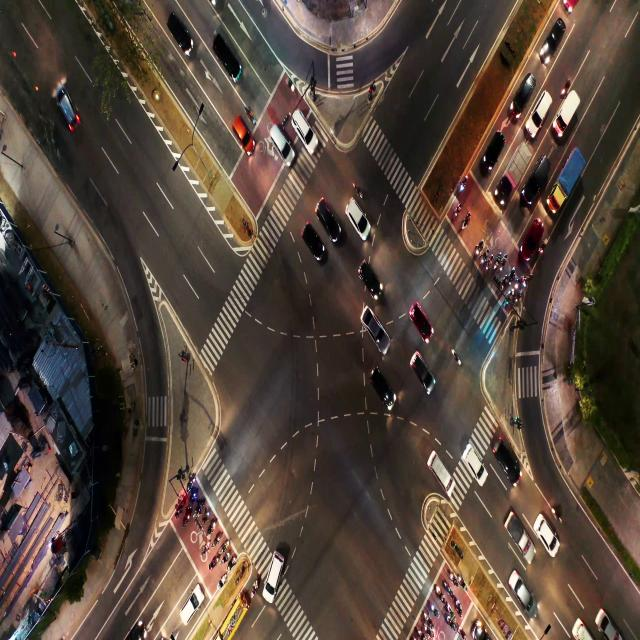bus: (228, 604, 245, 630)
car: (233, 124, 262, 164), (215, 36, 242, 78), (166, 17, 192, 55), (363, 312, 387, 351), (359, 260, 382, 296), (495, 437, 519, 471), (178, 584, 202, 617), (508, 571, 532, 604), (372, 368, 392, 407), (272, 130, 290, 172), (432, 442, 449, 485), (415, 307, 436, 341), (57, 91, 76, 127), (414, 356, 434, 389), (266, 558, 285, 592), (296, 115, 312, 152), (305, 220, 321, 257), (313, 199, 334, 226), (542, 29, 563, 53), (466, 448, 483, 477), (346, 205, 366, 229), (512, 84, 530, 108), (535, 92, 549, 121), (486, 135, 499, 166), (544, 516, 556, 549), (524, 221, 537, 248), (532, 165, 544, 187)
motorcycle: (351, 182, 365, 200), (284, 79, 296, 94), (453, 348, 461, 368), (427, 600, 437, 616), (458, 176, 469, 190), (246, 107, 255, 123), (464, 211, 472, 229), (552, 508, 562, 522), (206, 521, 216, 534), (250, 581, 258, 597), (455, 600, 463, 616), (436, 587, 444, 602), (414, 628, 424, 639), (459, 578, 468, 590), (507, 290, 514, 305), (423, 626, 433, 636), (202, 541, 209, 555), (184, 510, 192, 522), (218, 575, 226, 587), (474, 239, 482, 251), (539, 242, 547, 254), (423, 613, 431, 625), (480, 249, 487, 262), (445, 583, 452, 596), (447, 614, 454, 627), (508, 267, 514, 282), (502, 253, 507, 270), (524, 273, 530, 287), (186, 478, 194, 488), (177, 501, 183, 514), (454, 204, 460, 217), (494, 253, 500, 266), (500, 275, 506, 288), (209, 558, 216, 569), (215, 532, 221, 544), (228, 558, 234, 570), (516, 290, 522, 302), (460, 626, 466, 638), (220, 540, 227, 550), (450, 574, 457, 584), (197, 502, 203, 512), (222, 553, 228, 563), (448, 601, 452, 616), (488, 256, 492, 270), (516, 278, 522, 287), (204, 514, 208, 524), (192, 492, 196, 501)
truck: (510, 512, 527, 547), (509, 152, 525, 188), (565, 158, 579, 195), (558, 98, 574, 126)
